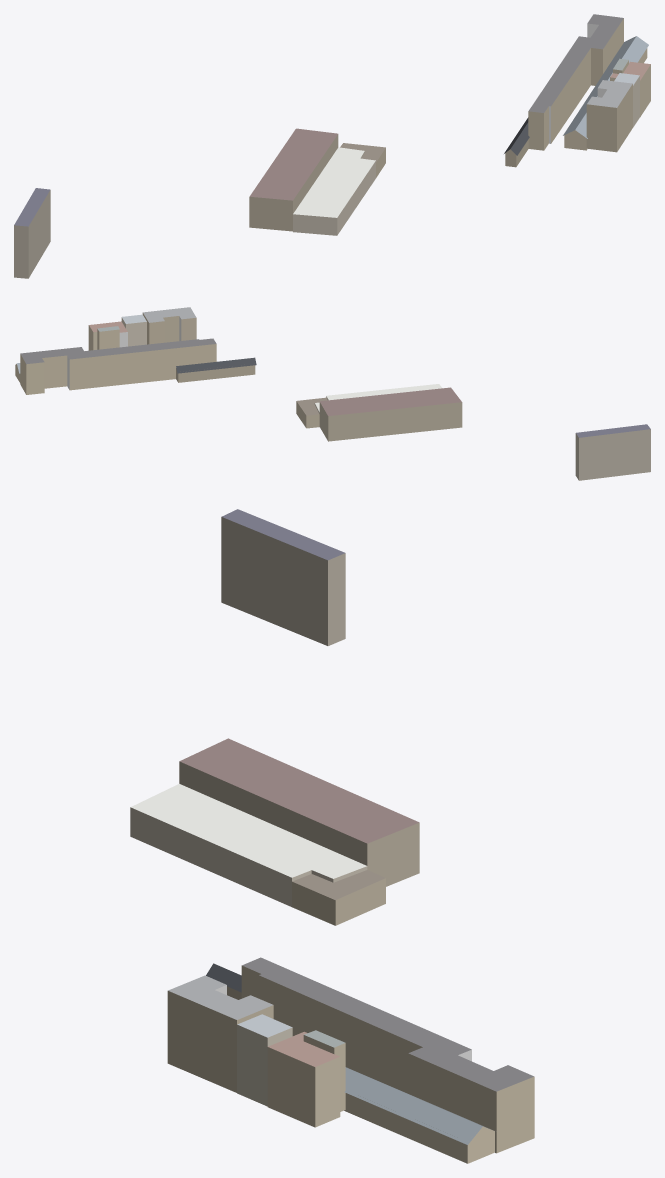
3 views of the same model, one above another, from view 1: azimuth 30°, elevation 25°; view 2: azimuth 150°, elevation 25°; view 3: azimuth 270°, elevation 25° (orthographic). The views are drawn at different scales.
Parts seen in each view (by area): view 1: tuile; view 2: tuile; view 3: tuile.
Boxes of the visible parts, bbox=[...] form: tuile: bbox=[14, 14, 650, 278]; tuile: bbox=[15, 307, 650, 480]; tuile: bbox=[130, 509, 534, 1163].
Bounding box in the file's own units: 197 × 15.37 × 59.5.
